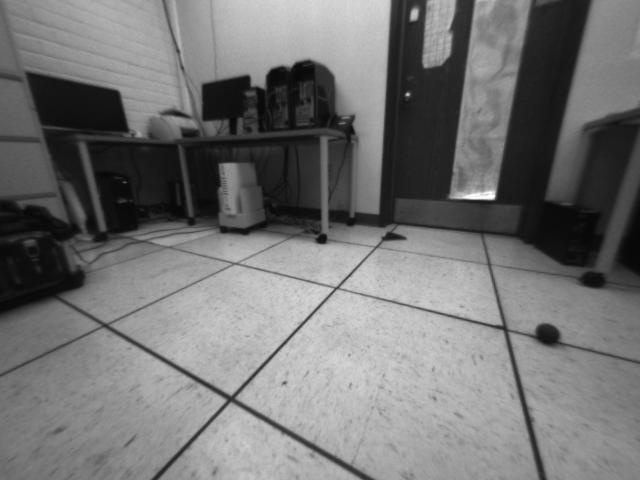dogtoy: (533, 315, 567, 354)
